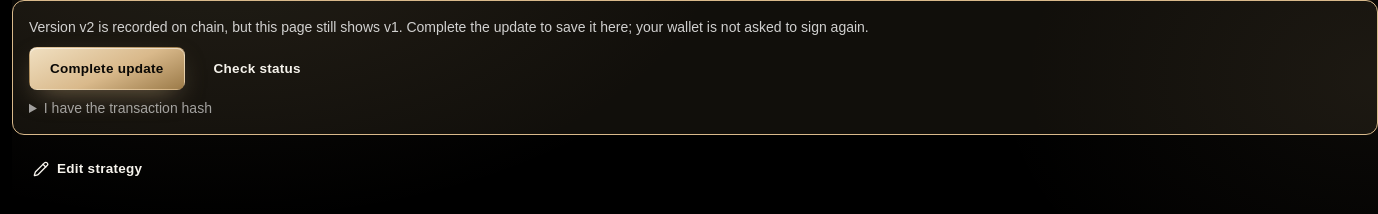
Test: EditStrategyPanel › recovery refused: the reason is shown and nothing is claimed
The image size is (1378, 214).
Click the button with test id "version-recover".
click(107, 69)  # box [29, 47, 185, 90]
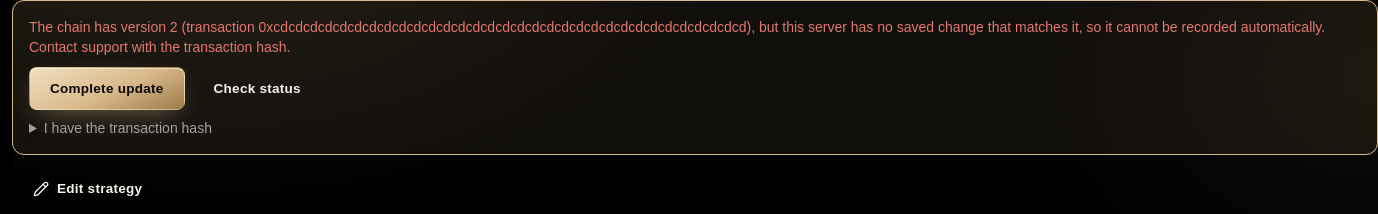
Expected: the message with test id "version-sync" shows "no saved change that matches it", [29, 19, 1325, 55]
